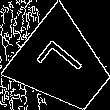L_SE: (35, 38, 92, 93)
